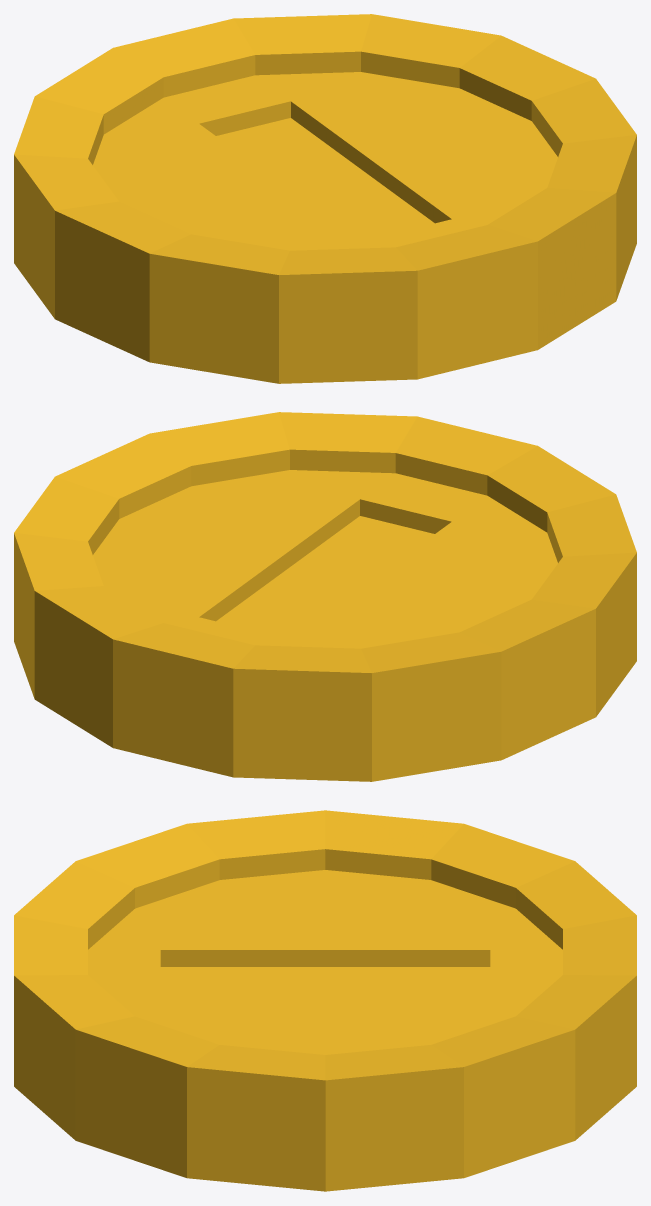
Rendered from fbx_coin.fbx.
3 views of the same model, one above another, from view 1: azimuth 30°, elevation 25°; view 2: azimuth 150°, elevation 25°; view 3: azimuth 270°, elevation 25° (orthographic). The views are drawn at different scales.
Parts seen in each view (by area): view 1: fbx_coin; view 2: fbx_coin; view 3: fbx_coin.
Part boxes in pixels (bbox=[...]): fbx_coin: bbox=[14, 14, 636, 383]; fbx_coin: bbox=[14, 412, 636, 781]; fbx_coin: bbox=[14, 810, 636, 1191].
Bounding box in the file's own units: 0.178 × 0.0342 × 0.1736.
1 material, 1 textured.
